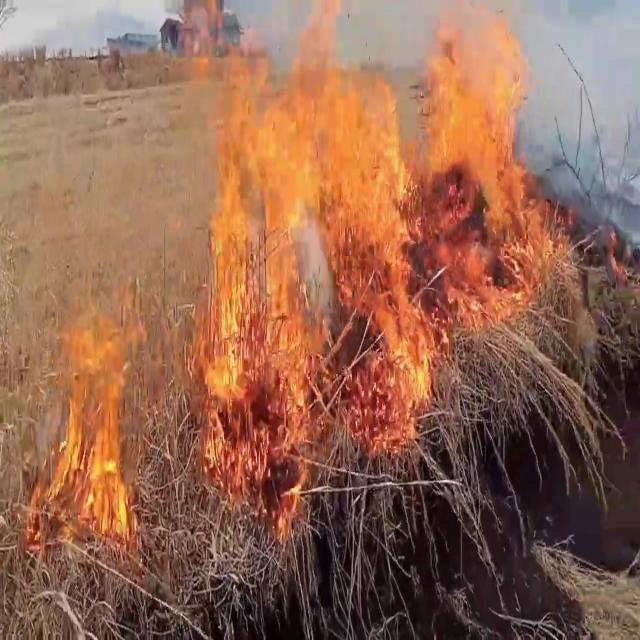Fire: (192, 0, 582, 469), (25, 305, 143, 554)
